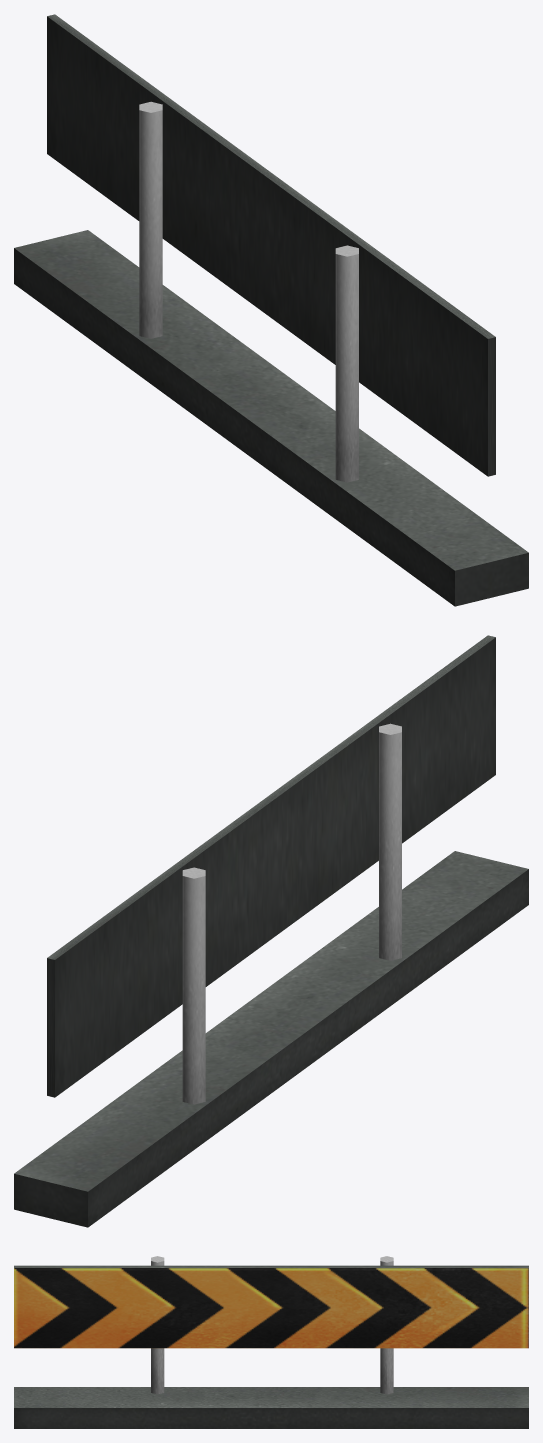
File: hulan_B.FBX
3 renders of one model, top to bottom at view 1: azimuth 30°, elevation 25°; view 2: azimuth 150°, elevation 25°; view 3: azimuth 270°, elevation 25°, orthographic. The views are drawn at different scales.
Visible parts, largest first — view 1: hulan_B; view 2: hulan_B; view 3: hulan_B.
Boxes of the visible parts, left/top/right/bottom form: hulan_B: left=14, top=14, right=528, bottom=606; hulan_B: left=14, top=635, right=528, bottom=1227; hulan_B: left=14, top=1256, right=528, bottom=1428.
Bounding box in the file's own units: 15.63 × 52.82 × 161.
